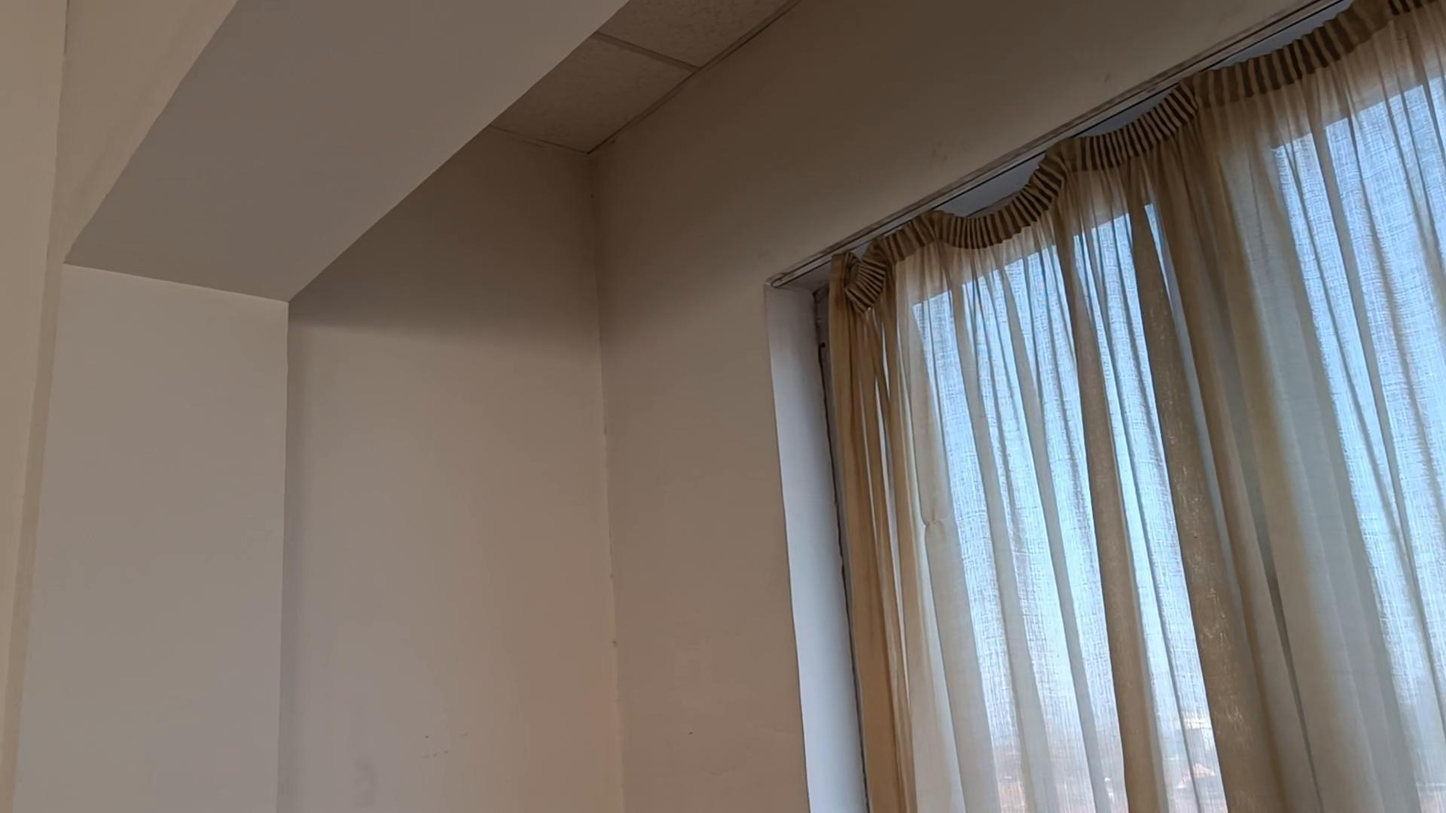ceiling: (65, 0, 615, 299), (507, 1, 791, 147)
wall: (279, 8, 1288, 810), (6, 1, 282, 812)
